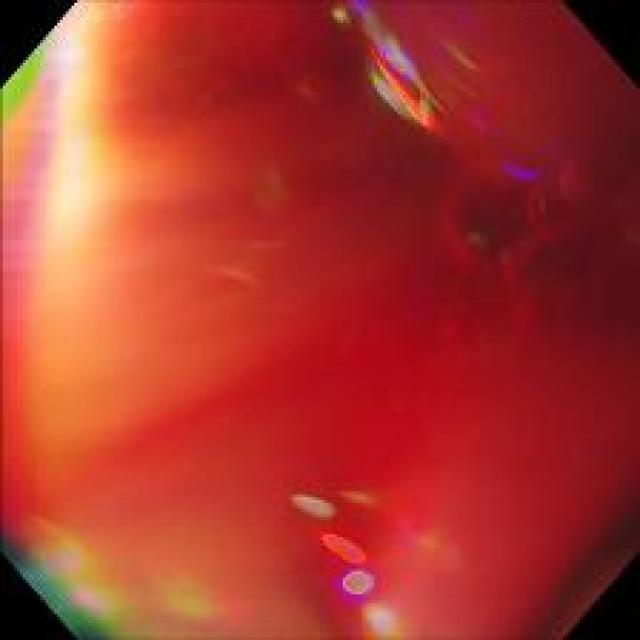bubbles: (442, 152, 618, 330)
color misalignment: (4, 8, 626, 628), (32, 19, 145, 359), (331, 12, 520, 165), (292, 478, 418, 631), (21, 515, 136, 630)
